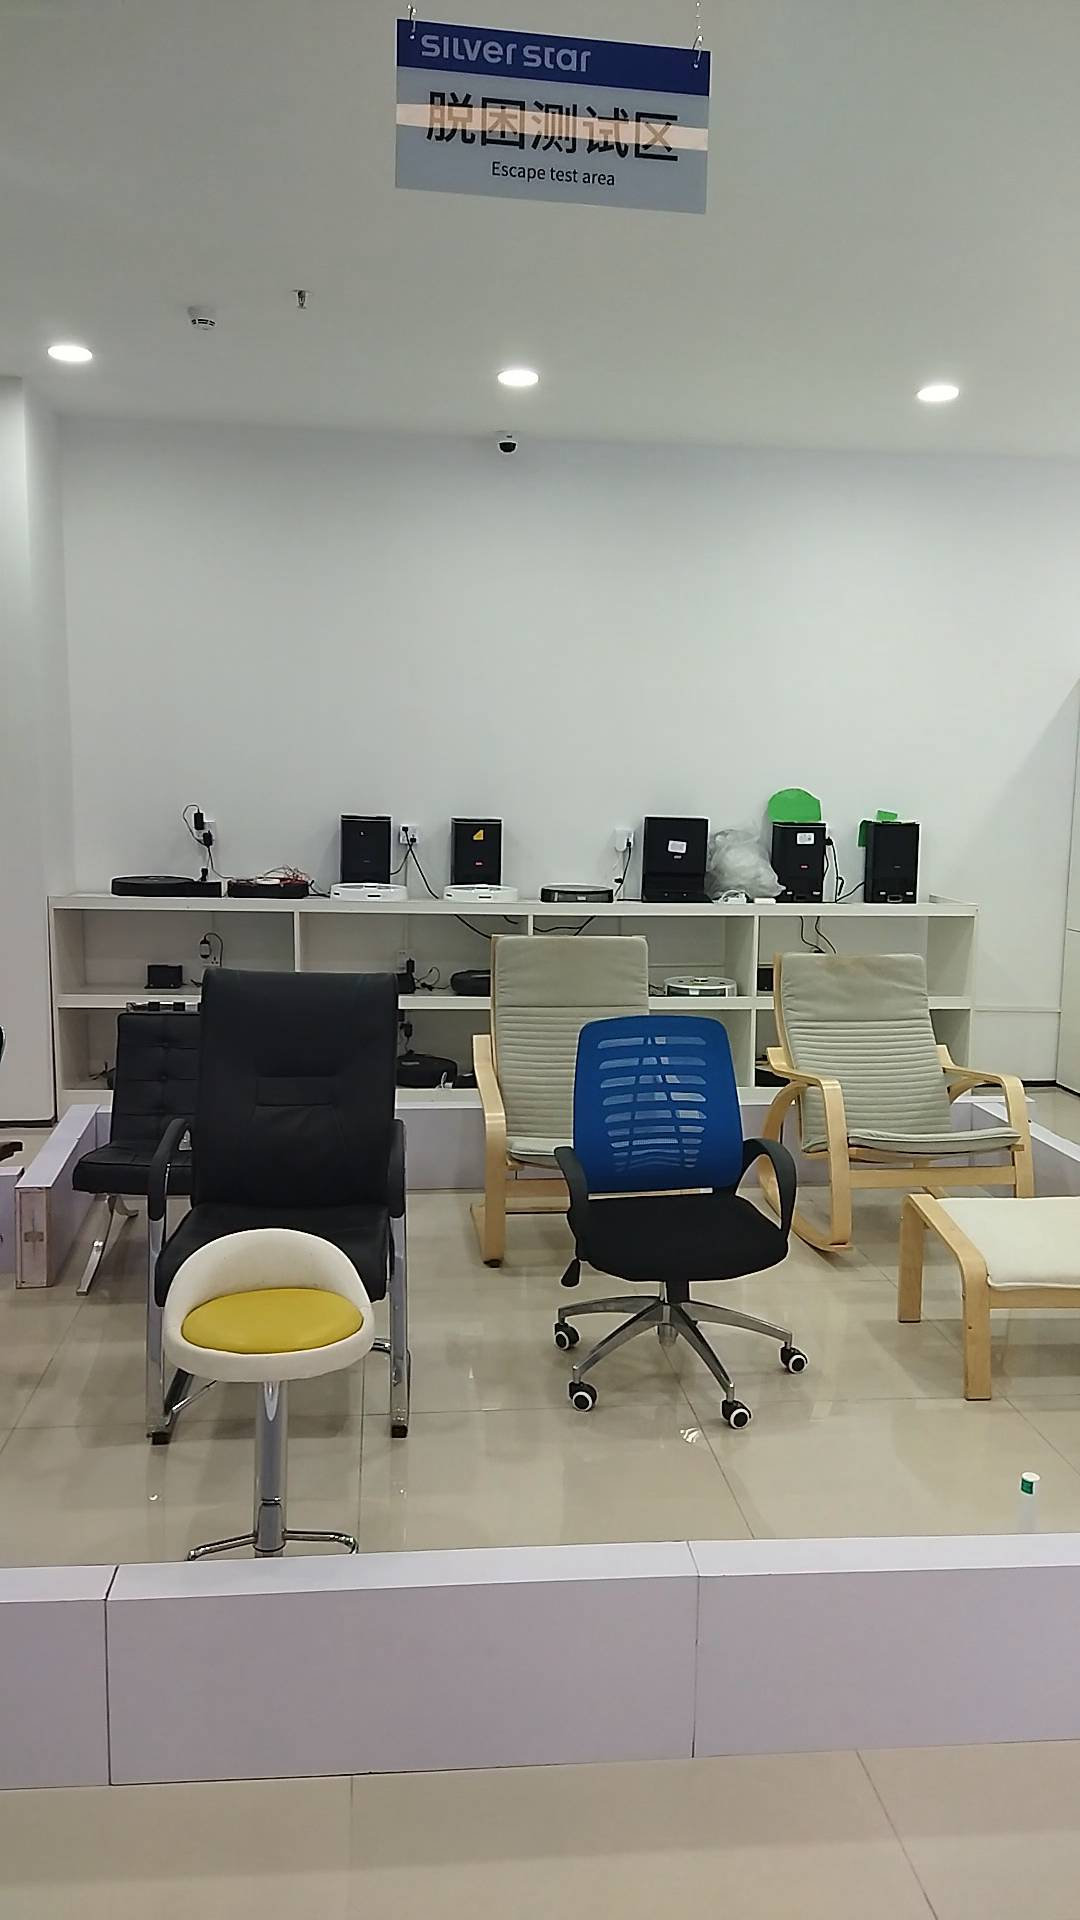dust collecting barrel: (644, 815, 713, 902), (773, 820, 833, 906), (862, 820, 923, 905), (450, 818, 509, 884), (339, 815, 393, 880)
recharge seat: (141, 963, 191, 996)
